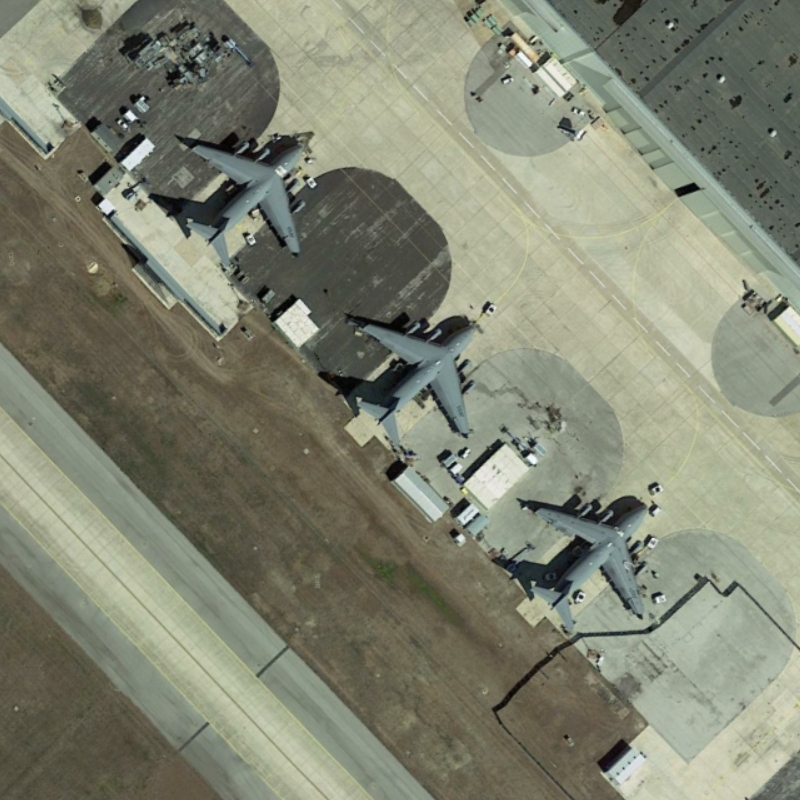A3: (168, 106, 321, 272), (337, 295, 478, 457), (513, 489, 655, 629)
